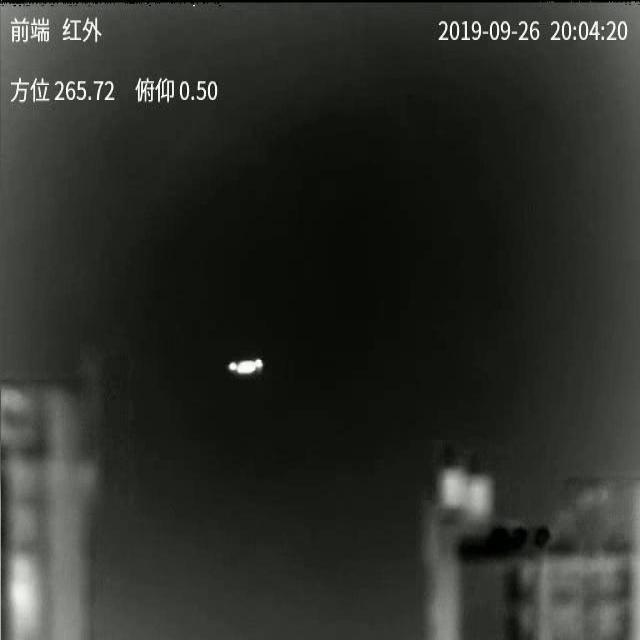drone: (228, 358, 264, 375)
